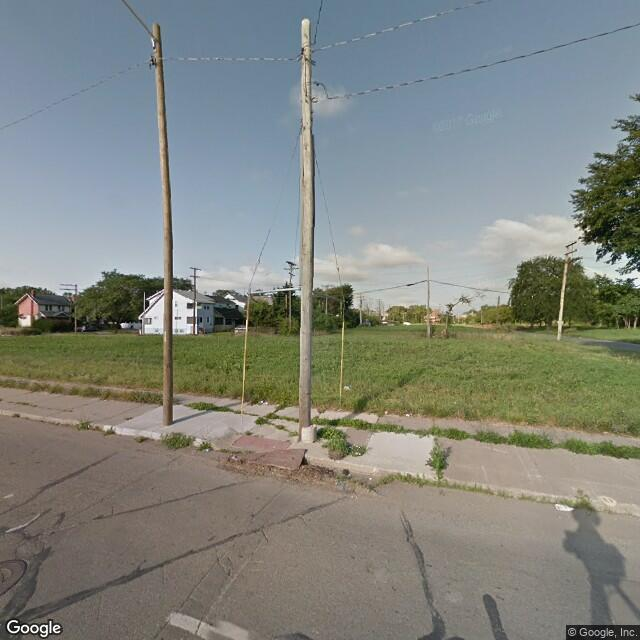litter: (233, 435, 310, 476), (553, 500, 575, 513), (340, 381, 353, 394)
